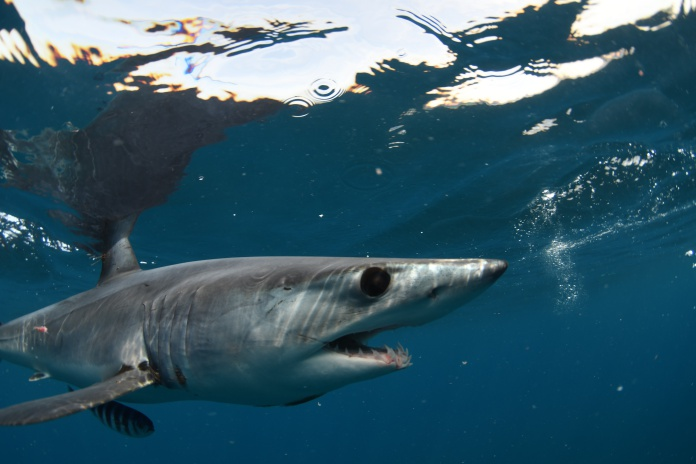Mako: (1, 240, 525, 445)
